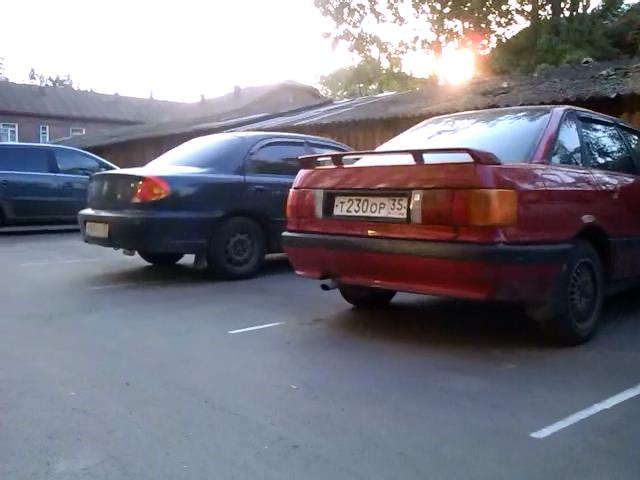car license plate: (332, 193, 411, 222), (84, 217, 111, 241)
